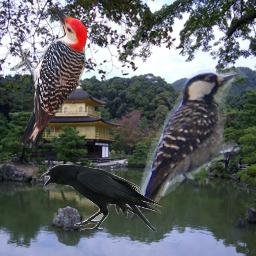Crow: (40, 164, 163, 232)
Woodpecker: (122, 63, 249, 227), (10, 3, 87, 148)
